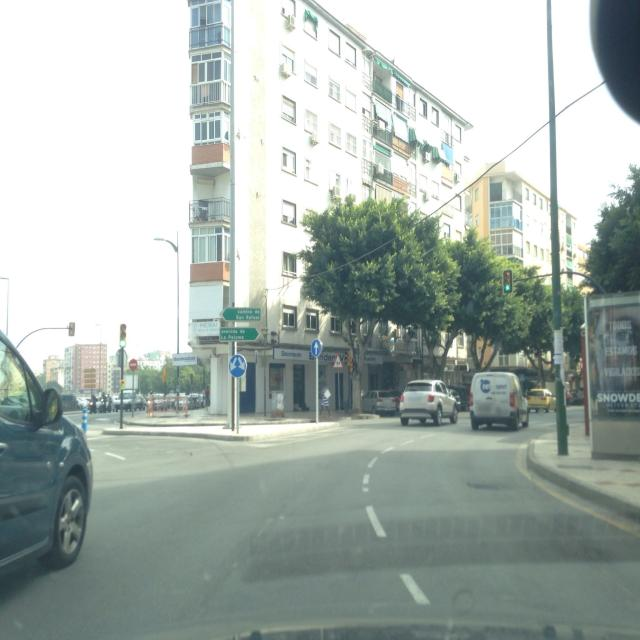car: (0, 286, 94, 640), (469, 371, 530, 432), (398, 379, 459, 427), (363, 389, 404, 417), (526, 388, 556, 413), (447, 384, 470, 412), (115, 391, 137, 412)
